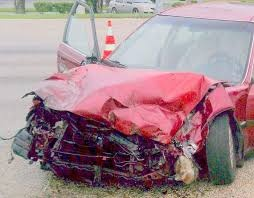Broken-glass: (62, 3, 98, 57), (227, 90, 254, 148)
Smashed: (9, 66, 229, 186)
